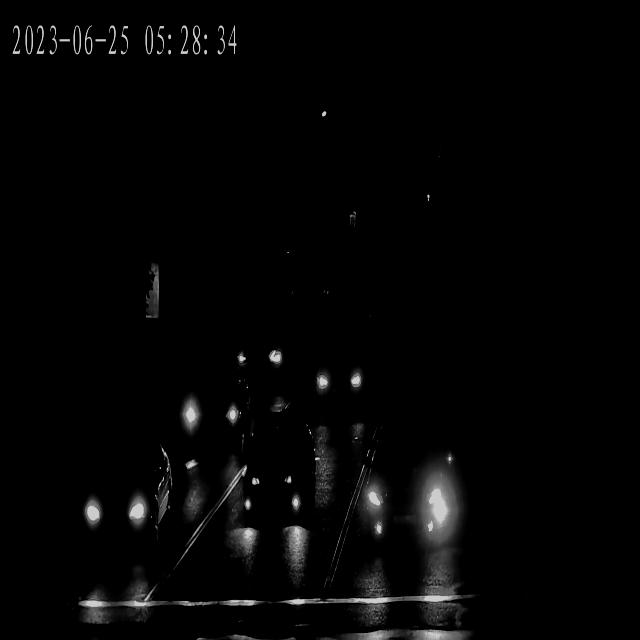Car: (362, 422, 454, 560), (82, 446, 170, 558), (238, 418, 312, 522), (182, 368, 246, 451), (233, 320, 290, 393), (315, 341, 366, 415)
